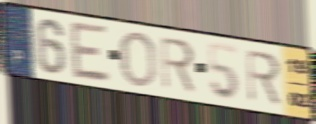5: (206, 38, 242, 103)
6: (34, 16, 67, 76)
E: (68, 19, 113, 85)
O: (119, 29, 159, 90)
R: (158, 34, 198, 95), (244, 47, 284, 108)
